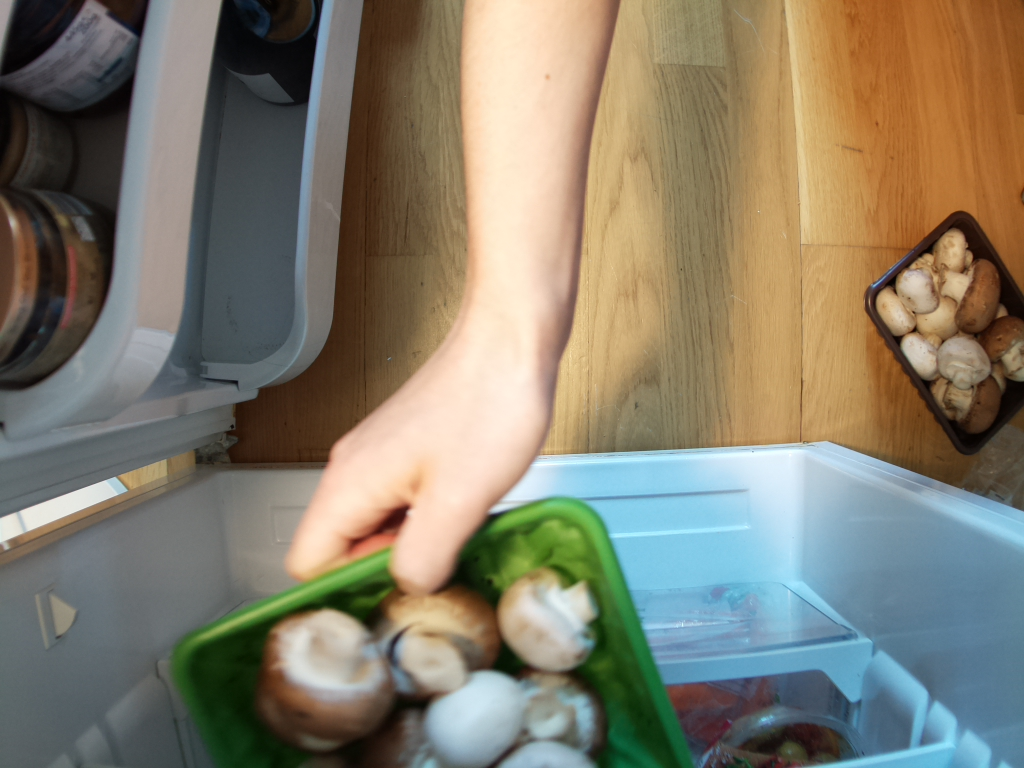mushrooms: (208, 514, 645, 768), (871, 216, 1024, 451)
